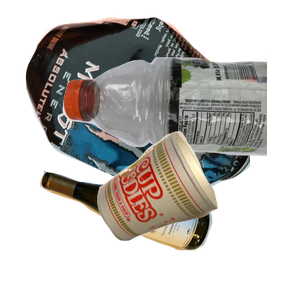glass: (37, 168, 242, 300)
metal: (23, 15, 263, 195)
plastic: (60, 53, 300, 201)
trash: (95, 129, 300, 300)
